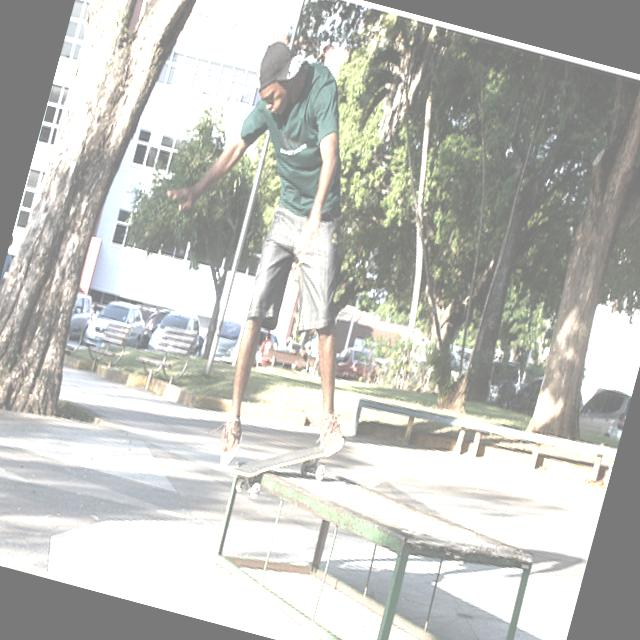Vehicle: (81, 294, 150, 356), (574, 375, 634, 442), (146, 302, 206, 360), (124, 299, 174, 354), (482, 356, 527, 408), (313, 340, 359, 384), (64, 292, 97, 346), (212, 318, 242, 366), (255, 328, 291, 358)
